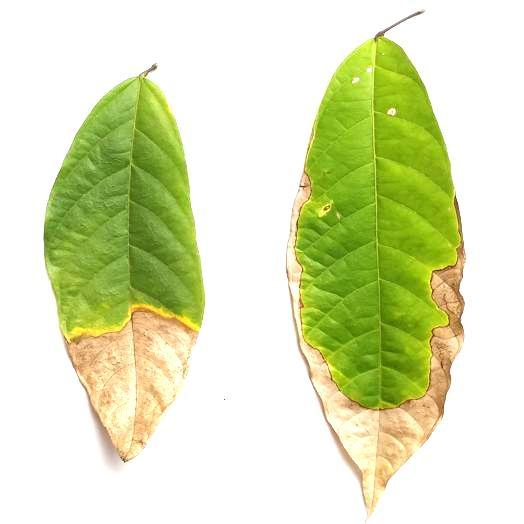Potassium: (287, 24, 463, 512), (45, 66, 204, 459)
